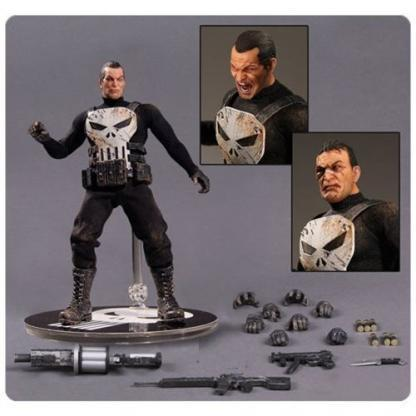Gun: (13, 342, 164, 376), (132, 370, 293, 398), (267, 350, 337, 377)
Knife: (350, 356, 407, 371)
